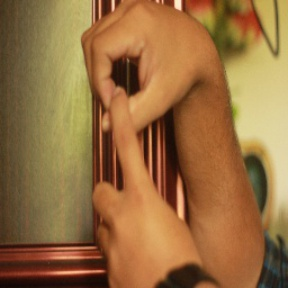Q: (78, 3, 219, 250)
